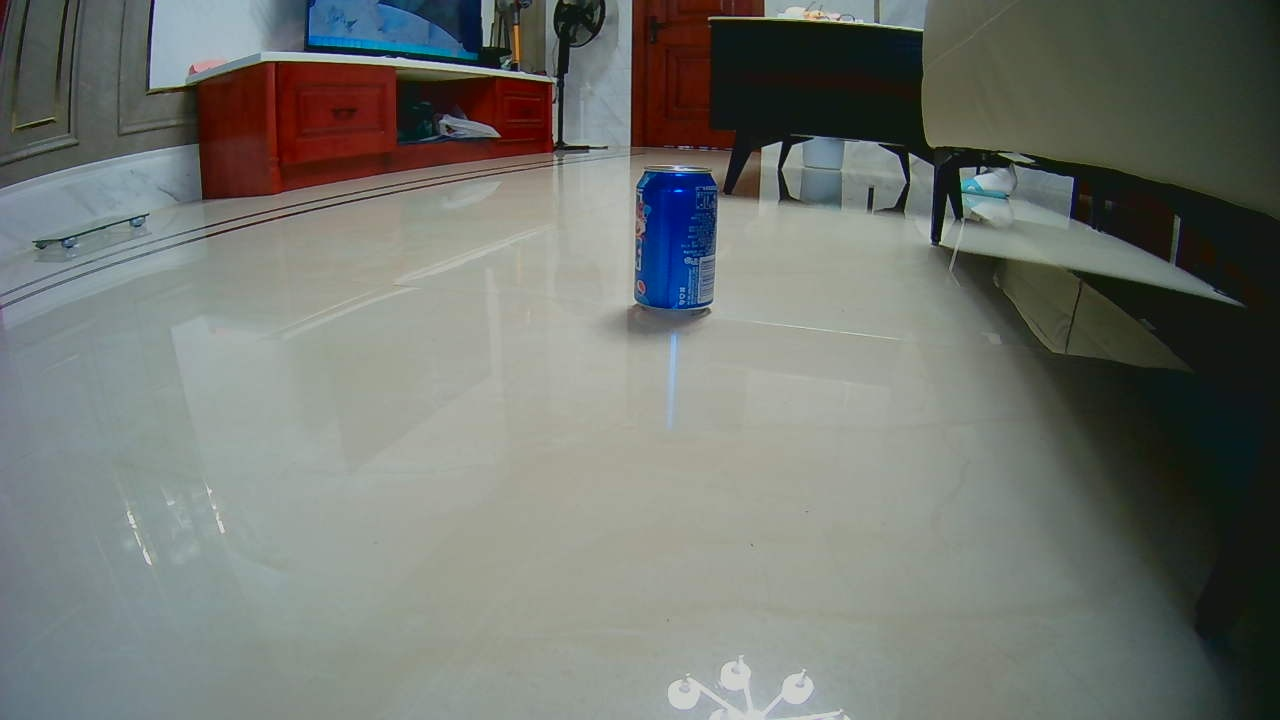pessi: (635, 161, 713, 312)
